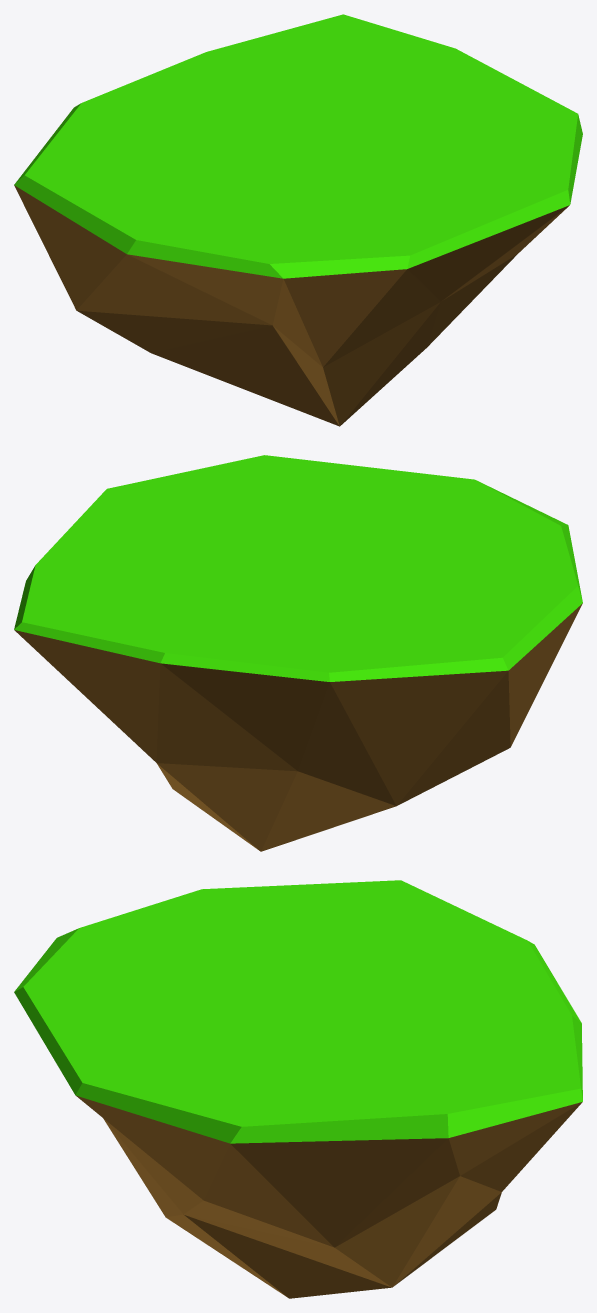
Rendered from SmallestHoverWorld3.fbx.
3 renders of one model, top to bottom at view 1: azimuth 30°, elevation 25°; view 2: azimuth 150°, elevation 25°; view 3: azimuth 270°, elevation 25°, orthographic. The views are drawn at different scales.
Visible parts, largest first — view 1: Icosphere; view 2: Icosphere; view 3: Icosphere.
Part boxes in pixels (x1=…): Icosphere: x1=14, y1=14, x2=582, y2=426; Icosphere: x1=14, y1=455, x2=582, y2=851; Icosphere: x1=14, y1=880, x2=582, y2=1298.
Bounding box in the file's own units: 865 × 418 × 829.
